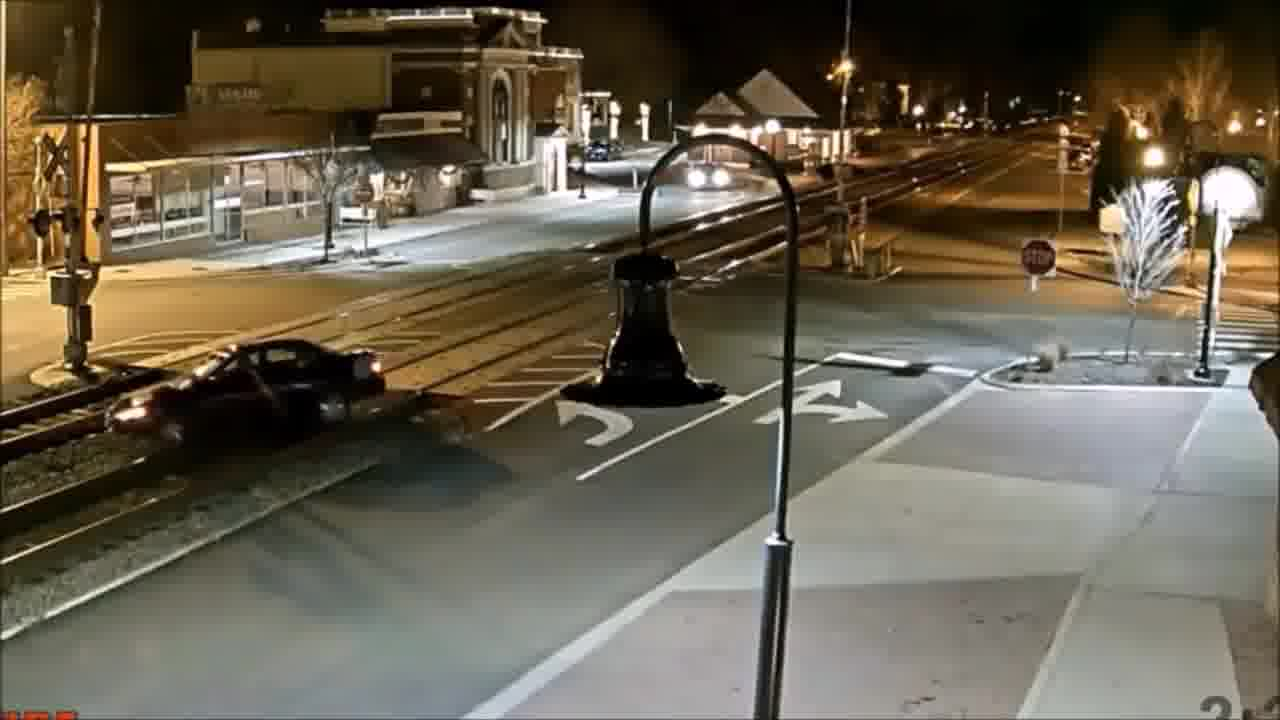crossing railway track: (104, 333, 393, 463)
